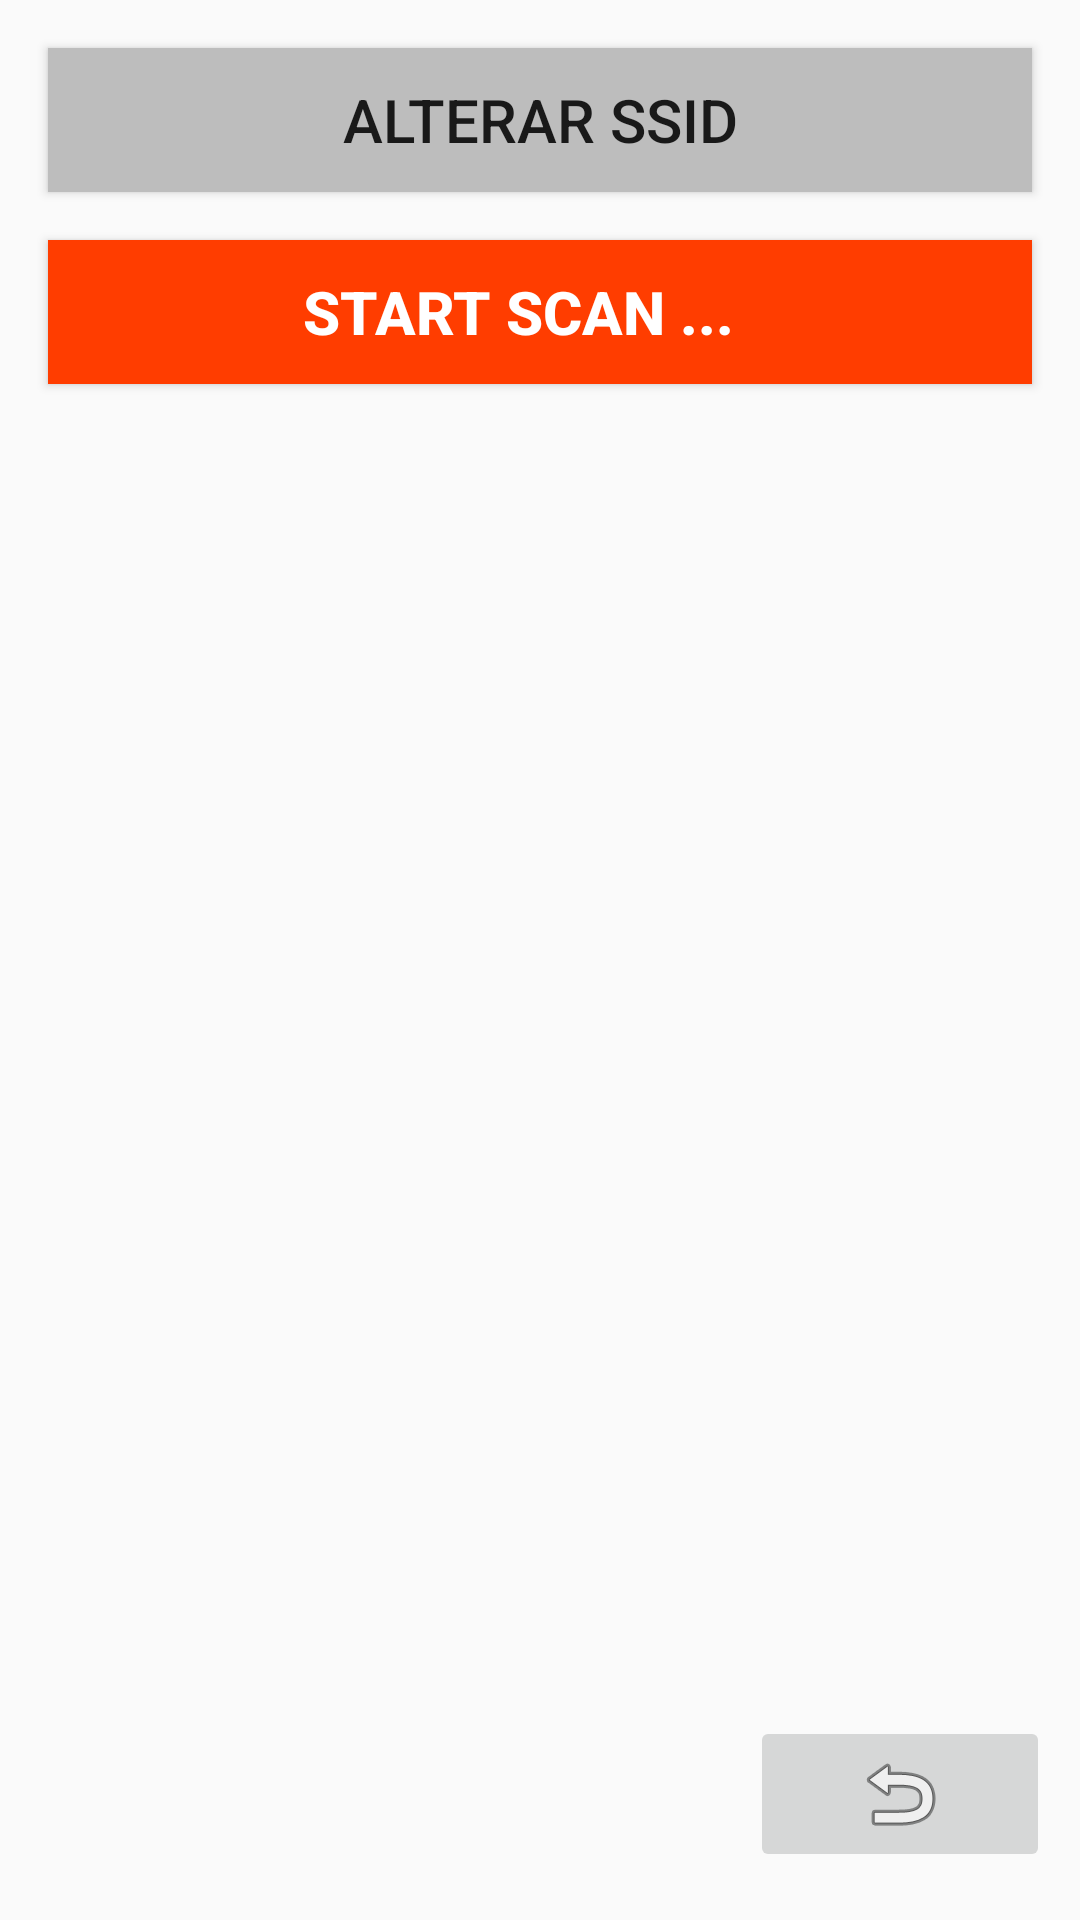

Icon bounding boxes for this 1080px x 1920px phone screenshot, format (x1, y1, x2, y2):
Voltar: (762, 1734, 1038, 1854)
